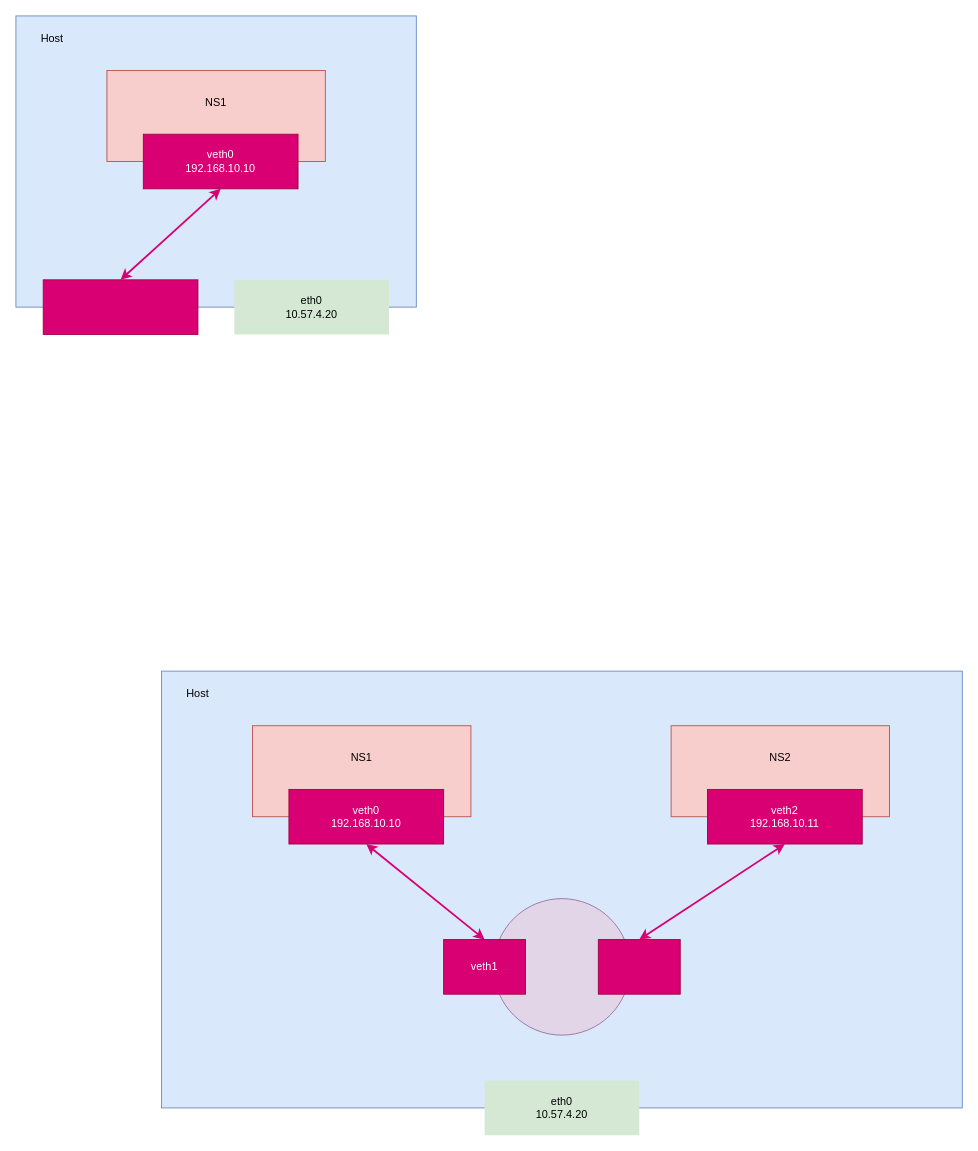
The diagram is 978 pixels wide and 1151 high, and some of its shapes have lost their labels. The shapes that lost their labels are listed below. From the top down, each one's box as (x1, y1, x2, y2) in pixels, then its label:
(42, 279, 198, 334): veth1 192.168.10.11
(493, 898, 630, 1035): Switch
(597, 939, 680, 994): veth3
